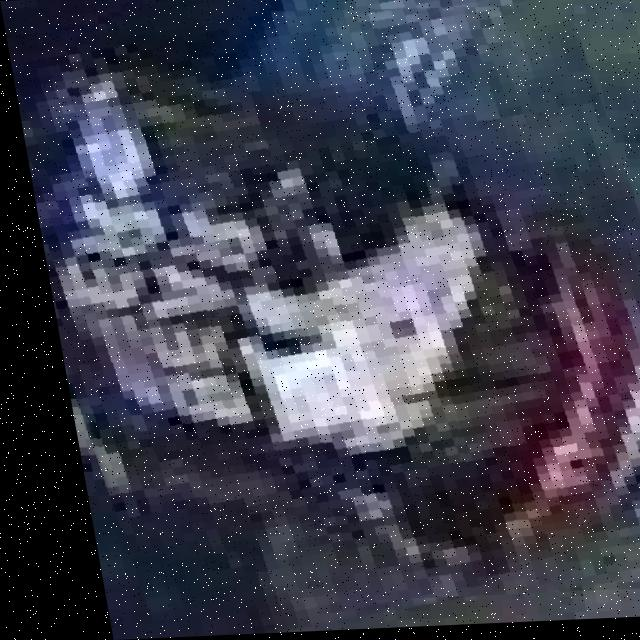litter: (15, 13, 640, 598)
